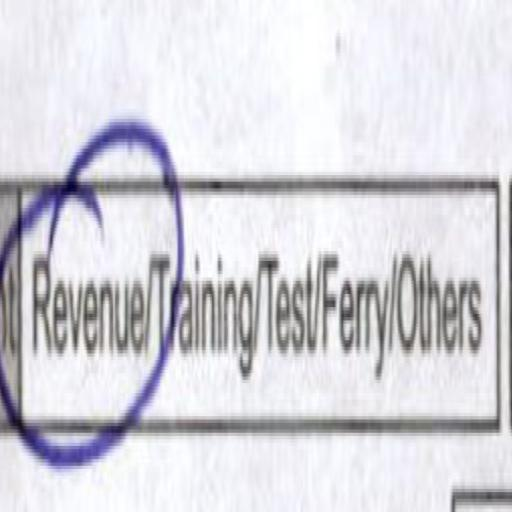check: (24, 146, 148, 512)
